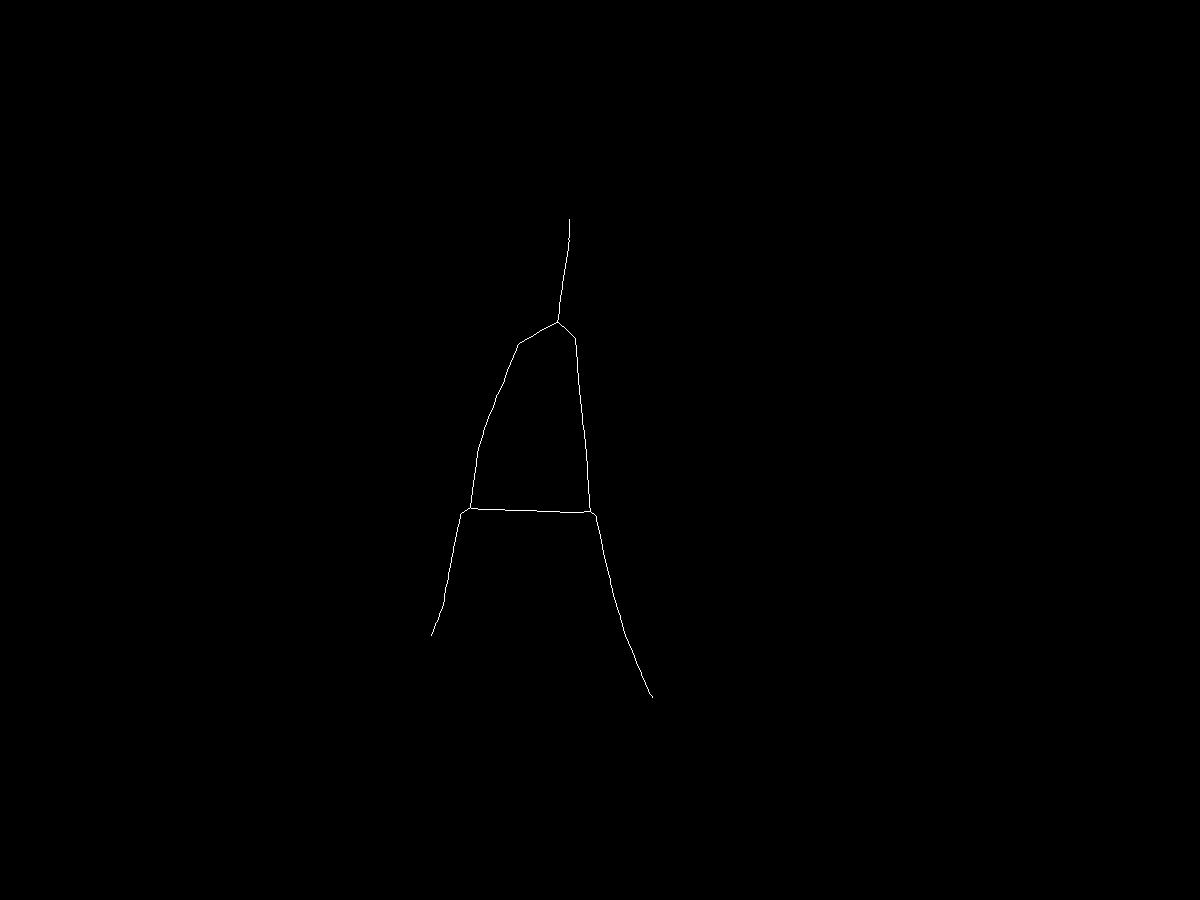dian1: (550, 316, 567, 333)
dian2: (460, 501, 481, 522)
dian3: (425, 630, 440, 645)
dian4: (583, 505, 602, 524)
dian5: (640, 691, 657, 708)
